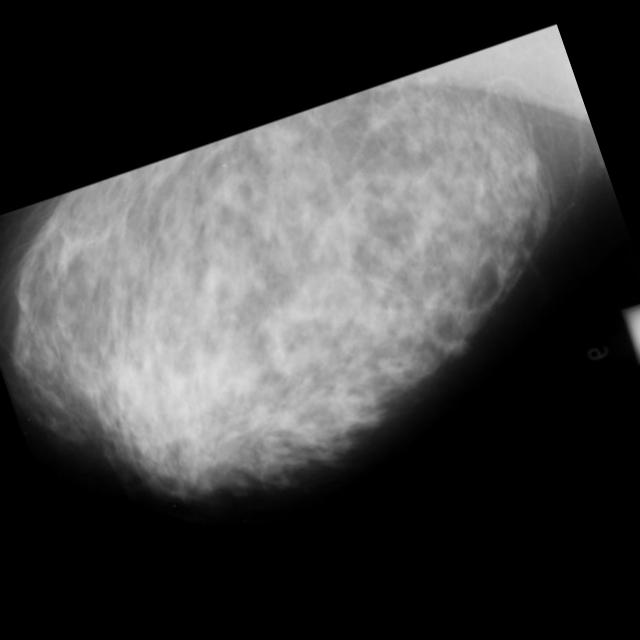ARCH: (262, 118, 306, 162)
